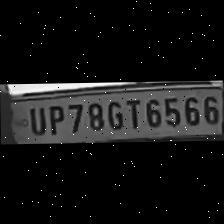5: (160, 93, 180, 126)
6: (142, 95, 160, 128), (200, 92, 218, 125), (181, 94, 199, 125)
7: (63, 100, 83, 134)
8: (84, 98, 104, 131)
G: (104, 97, 124, 131)
P: (44, 101, 64, 135)
T: (122, 96, 140, 130)
U: (24, 102, 46, 135)
